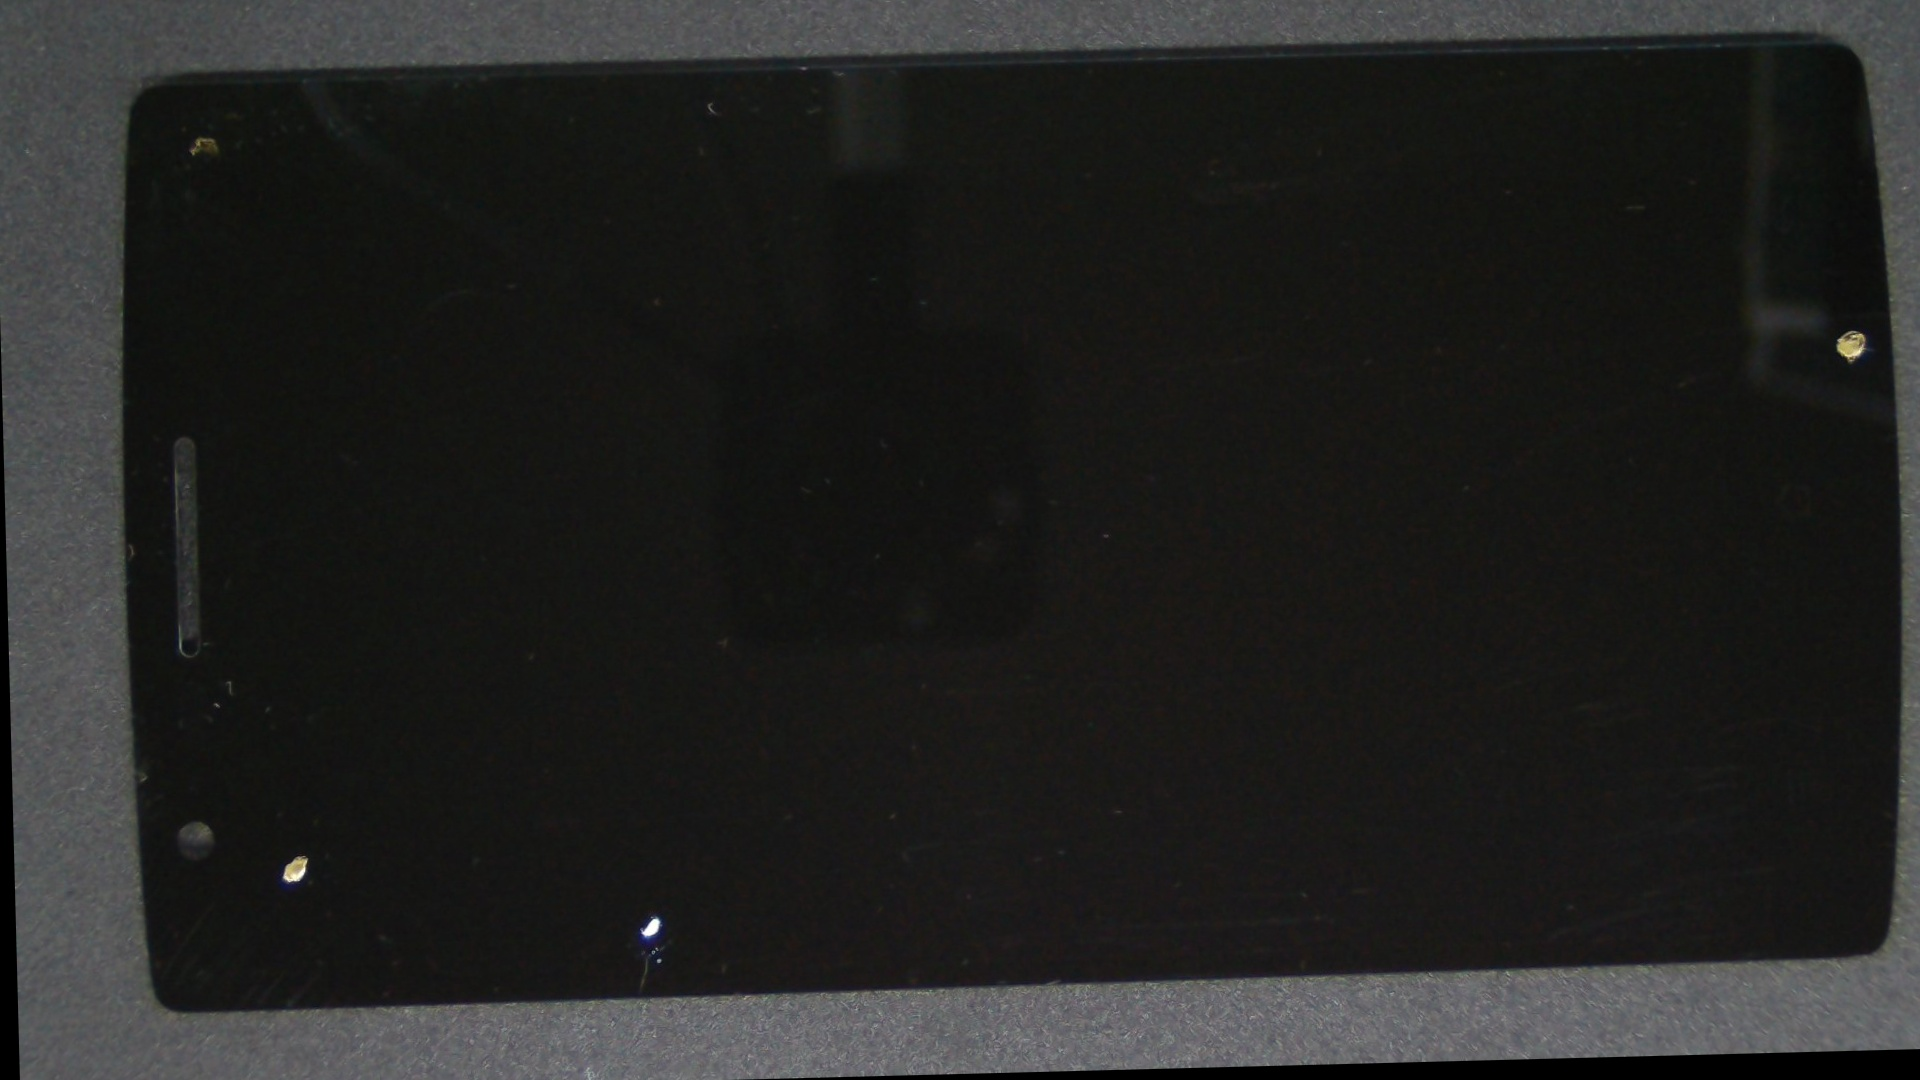oil: (920, 108, 1920, 574), (323, 410, 977, 1080), (328, 425, 992, 1080), (326, 431, 981, 1080), (149, 389, 458, 1080)
